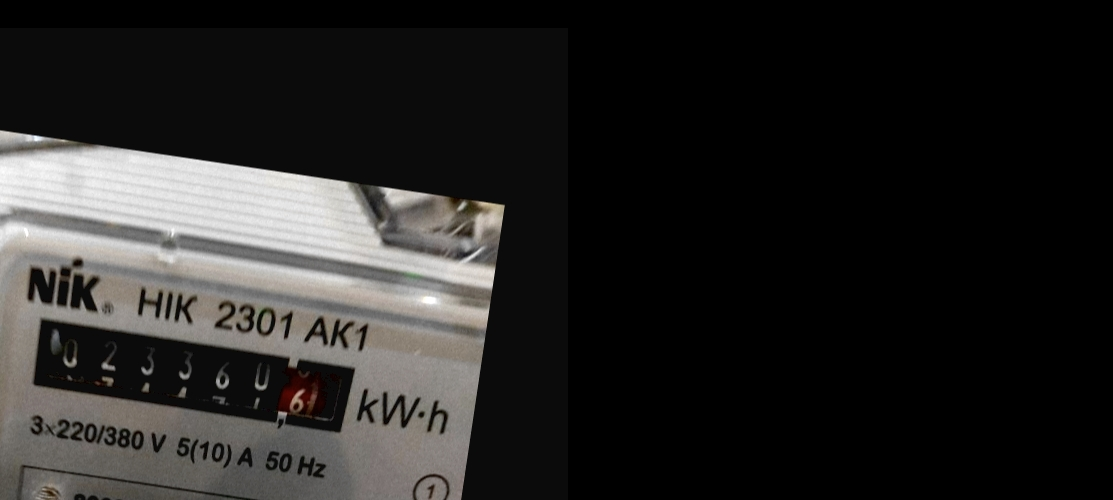0: (247, 357, 274, 395), (56, 333, 82, 371)
2: (95, 337, 121, 375)
3: (134, 343, 159, 380), (173, 347, 196, 384)
6: (209, 356, 234, 392), (284, 382, 307, 417)
screen: (13, 305, 375, 454)
